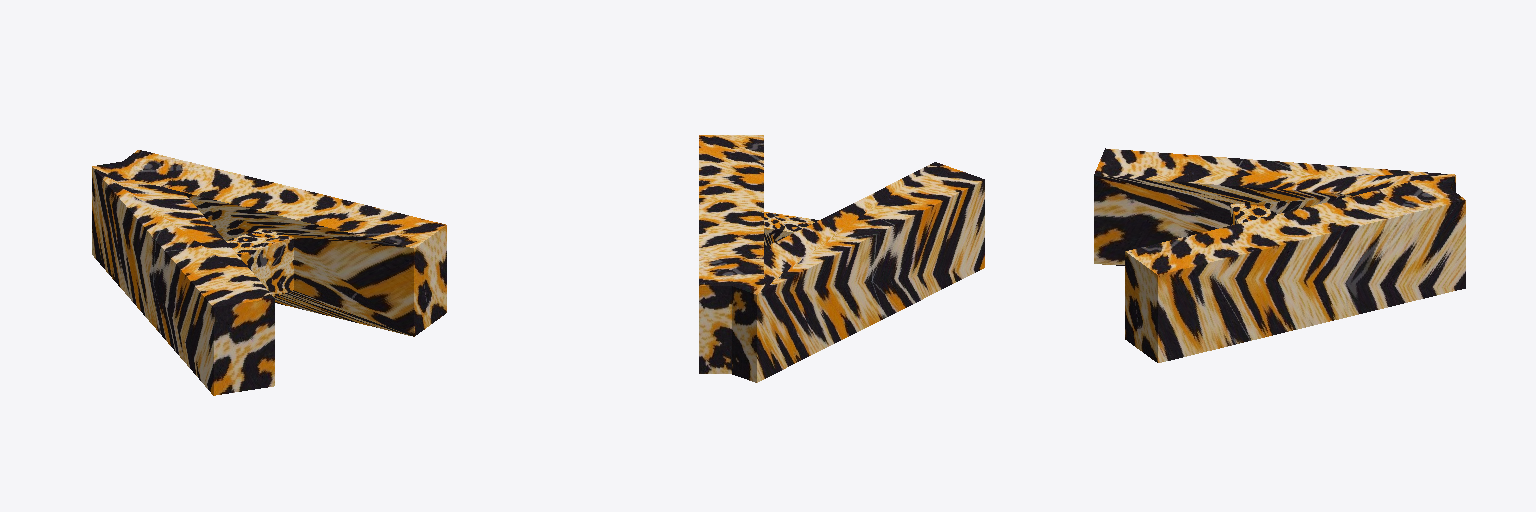
3 views of the same model, side by side, from view 1: azimuth 30°, elevation 25°; view 2: azimuth 150°, elevation 25°; view 3: azimuth 270°, elevation 25° (orthographic).
Parts seen in each view (by area): view 1: Box003; view 2: Box003; view 3: Box003.
Boxes of the visible parts, <box> form: Box003: <box>92,150,446,395</box>; Box003: <box>699,135,984,382</box>; Box003: <box>1094,148,1465,362</box>.
Size of the model in its own units: 76.99 by 25 by 95.56.
Materials: 1 (1 with a texture image).